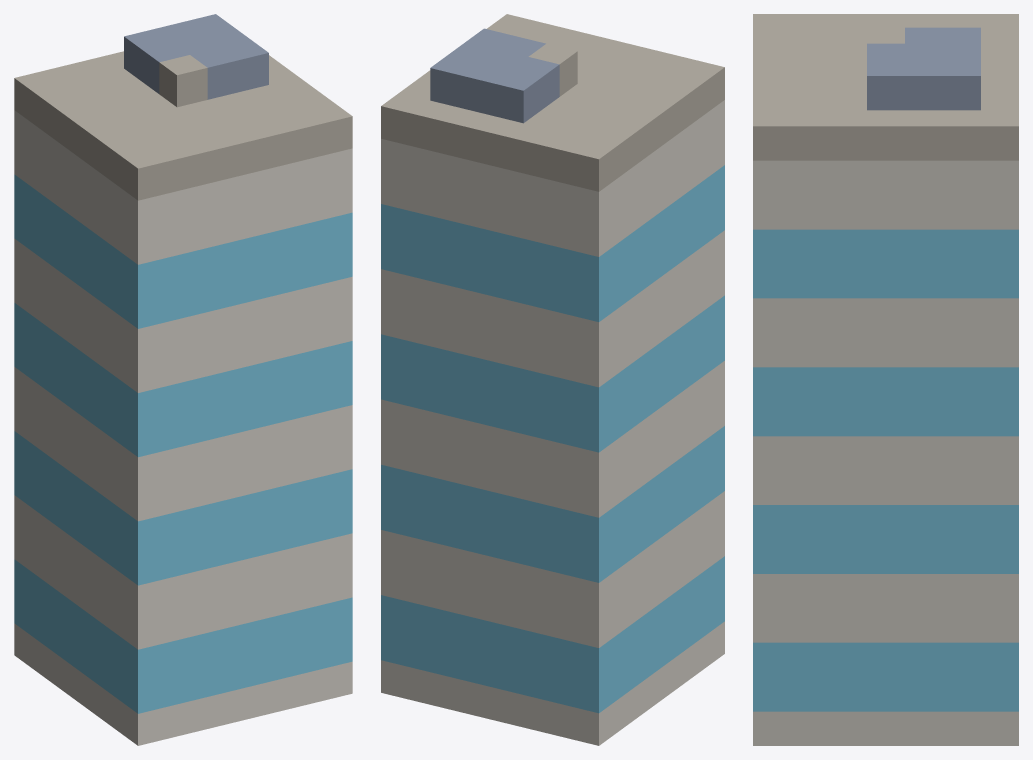
The model's file is tower_block.glb.
3 views of the same model, side by side, from view 1: azimuth 30°, elevation 25°; view 2: azimuth 150°, elevation 25°; view 3: azimuth 270°, elevation 25° (orthographic). The views are drawn at different scales.
Visible parts, largest first — view 1: tower_block_concrete, tower_block_window, tower_block_roof_flat, tower_block_metal; view 2: tower_block_concrete, tower_block_window, tower_block_roof_flat, tower_block_metal; view 3: tower_block_concrete, tower_block_window, tower_block_roof_flat, tower_block_metal.
Boxes of the visible parts, left/top/right/bottom form: tower_block_concrete: left=14, top=110, right=352, bottom=745; tower_block_window: left=14, top=174, right=352, bottom=713; tower_block_roof_flat: left=14, top=51, right=352, bottom=200; tower_block_metal: left=124, top=14, right=268, bottom=99; tower_block_concrete: left=381, top=100, right=724, bottom=745; tower_block_window: left=381, top=165, right=724, bottom=713; tower_block_roof_flat: left=381, top=14, right=724, bottom=191; tower_block_metal: left=430, top=28, right=559, bottom=123; tower_block_concrete: left=753, top=160, right=1018, bottom=745; tower_block_window: left=753, top=229, right=1018, bottom=711; tower_block_roof_flat: left=753, top=14, right=1018, bottom=160; tower_block_metal: left=867, top=27, right=980, bottom=110.
Bounding box in the file's own units: 17.01 × 46.17 × 17.01.
